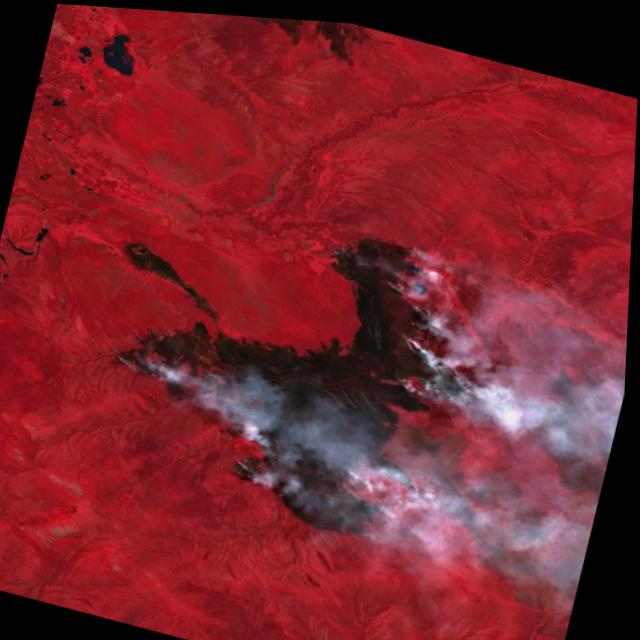fire: (82, 166, 511, 556)
